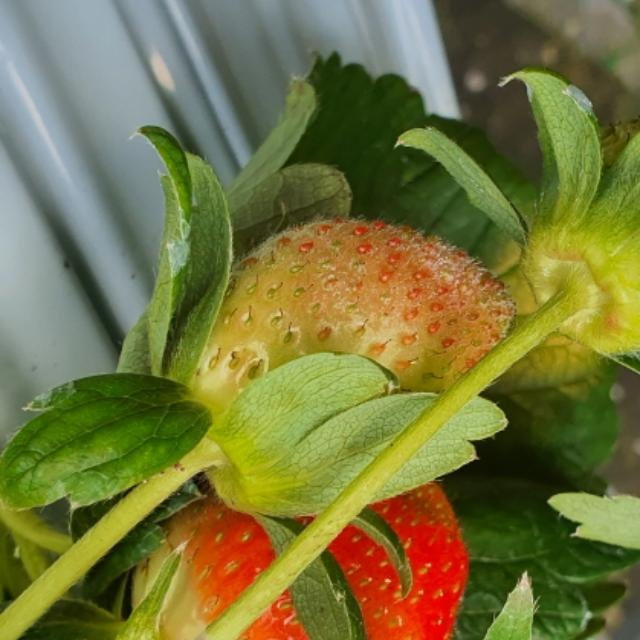Powdery Mildew Fruit: (269, 215, 523, 391)
